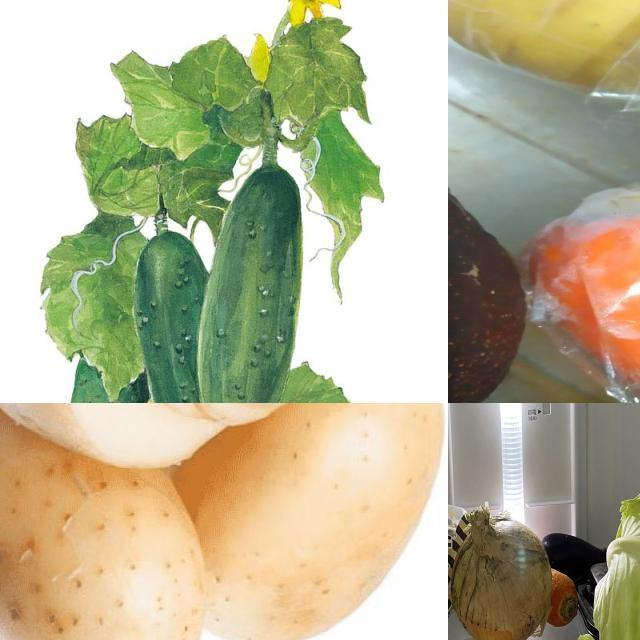cabbage: (593, 481, 640, 640)
carrot: (537, 190, 640, 404), (548, 568, 580, 630)
cucumber: (192, 164, 302, 404), (134, 230, 220, 404), (65, 354, 150, 404)
eggplant: (543, 532, 609, 580)
onion: (450, 506, 552, 640)
potato: (176, 404, 443, 640), (1, 404, 207, 640), (1, 404, 449, 469)
